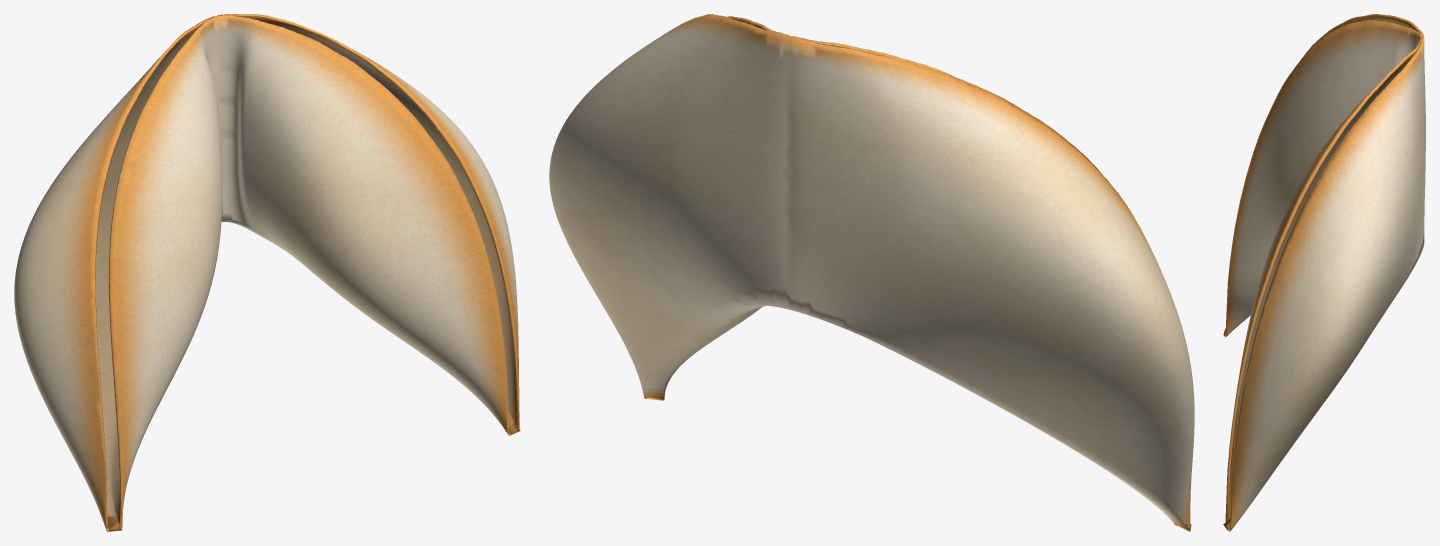
The model's file is fortune-cookie.glb.
3 renders of one model, left to right at view 1: azimuth 30°, elevation 25°; view 2: azimuth 150°, elevation 25°; view 3: azimuth 270°, elevation 25°, orthographic. The views are drawn at different scales.
Parts seen in each view (by area): view 1: WholeCookie; view 2: WholeCookie; view 3: WholeCookie.
Part boxes in pixels (<box>): WholeCookie: <box>14,14,520,531</box>; WholeCookie: <box>549,14,1194,531</box>; WholeCookie: <box>1223,14,1425,531</box>.
Size of the model in its own units: 2.33 by 1.85 by 0.8654.
3 materials, 3 textured.
